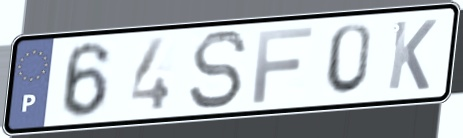0: (320, 21, 374, 99)
4: (127, 34, 173, 115)
6: (60, 38, 116, 121)
F: (250, 24, 317, 106)
K: (384, 17, 440, 93)
S: (186, 28, 251, 113)
